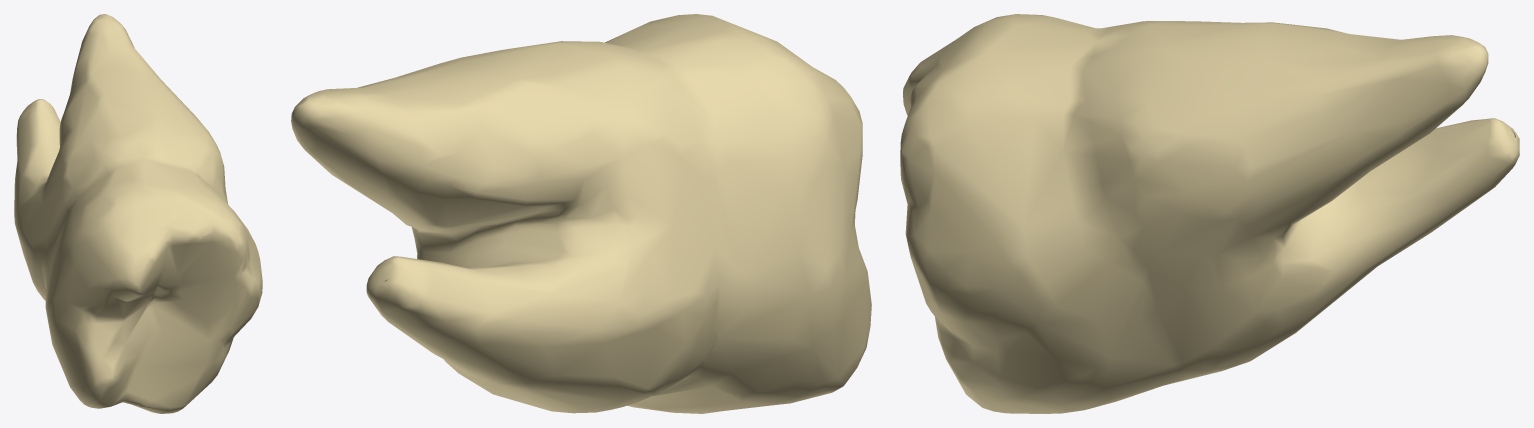
3 renders of one model, left to right at view 1: azimuth 30°, elevation 25°; view 2: azimuth 150°, elevation 25°; view 3: azimuth 270°, elevation 25°, orthographic. The views are drawn at different scales.
Parts seen in each view (by area): view 1: 左侧下颌第一磨牙; view 2: 左侧下颌第一磨牙; view 3: 左侧下颌第一磨牙.
Boxes of the visible parts, x1,y1,x2,y2 form: 左侧下颌第一磨牙: (14,14,262,413); 左侧下颌第一磨牙: (291,14,871,413); 左侧下颌第一磨牙: (900,14,1519,413).
Bounding box in the file's own units: 0.0178 × 0.0217 × 0.0284.
